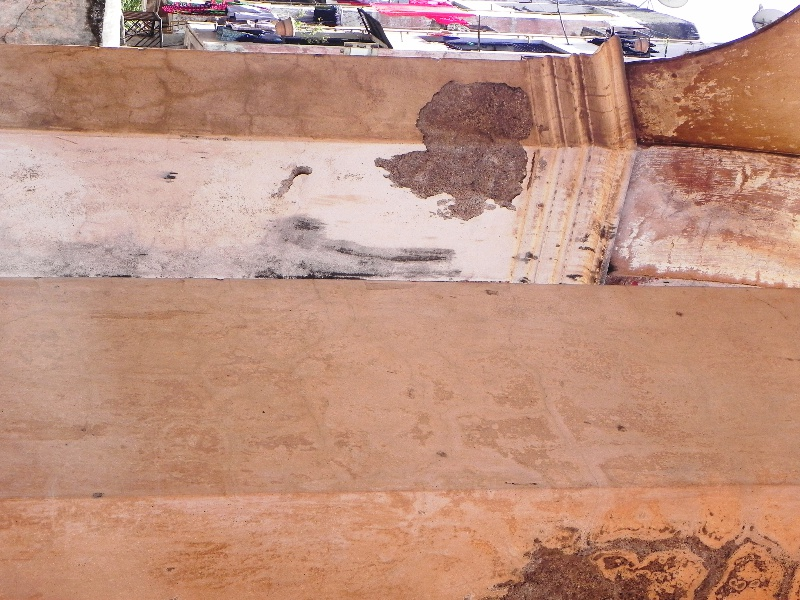Spalling: (372, 73, 542, 226), (487, 525, 759, 600), (274, 161, 313, 199)
